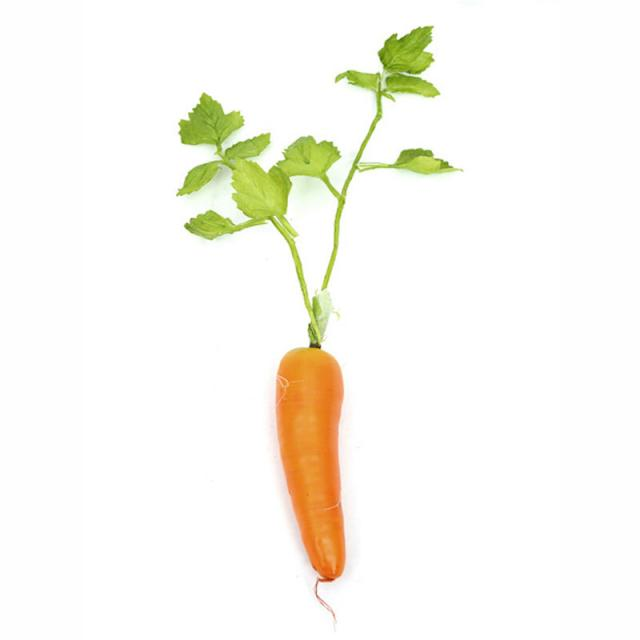Carrot: (270, 348, 361, 626)
